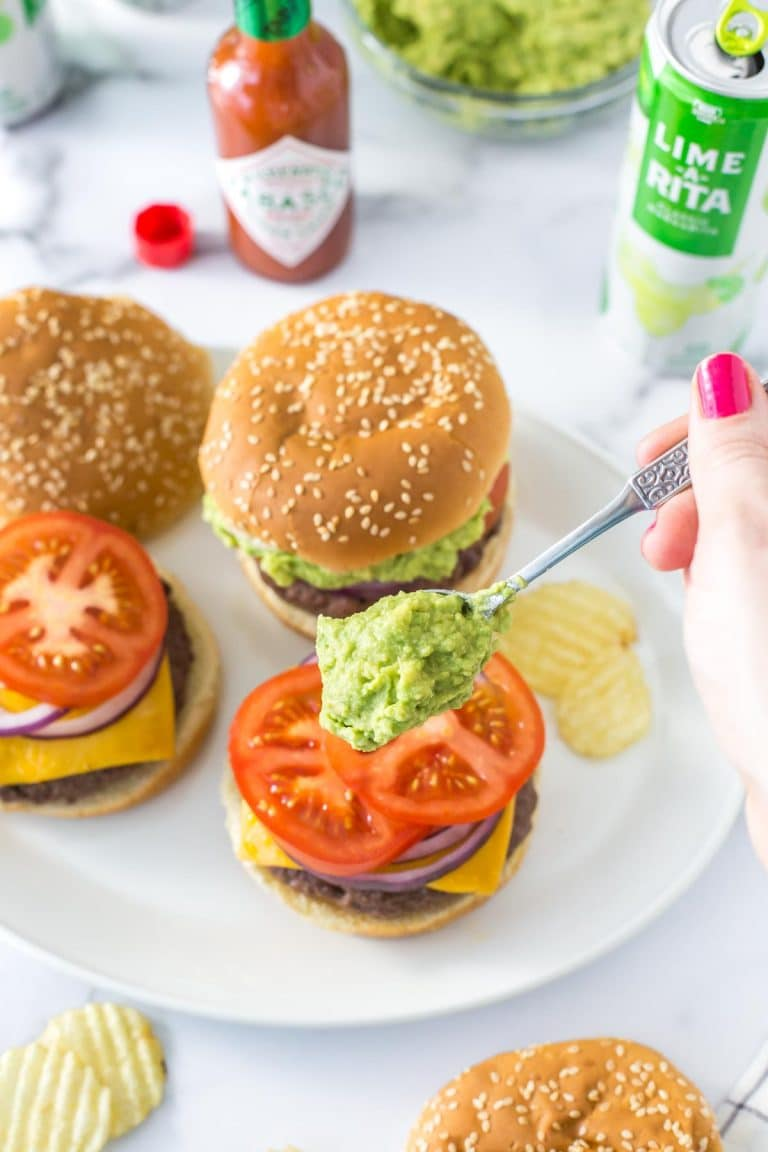hamburger_buns: (207, 293, 508, 563), (1, 280, 231, 511)
